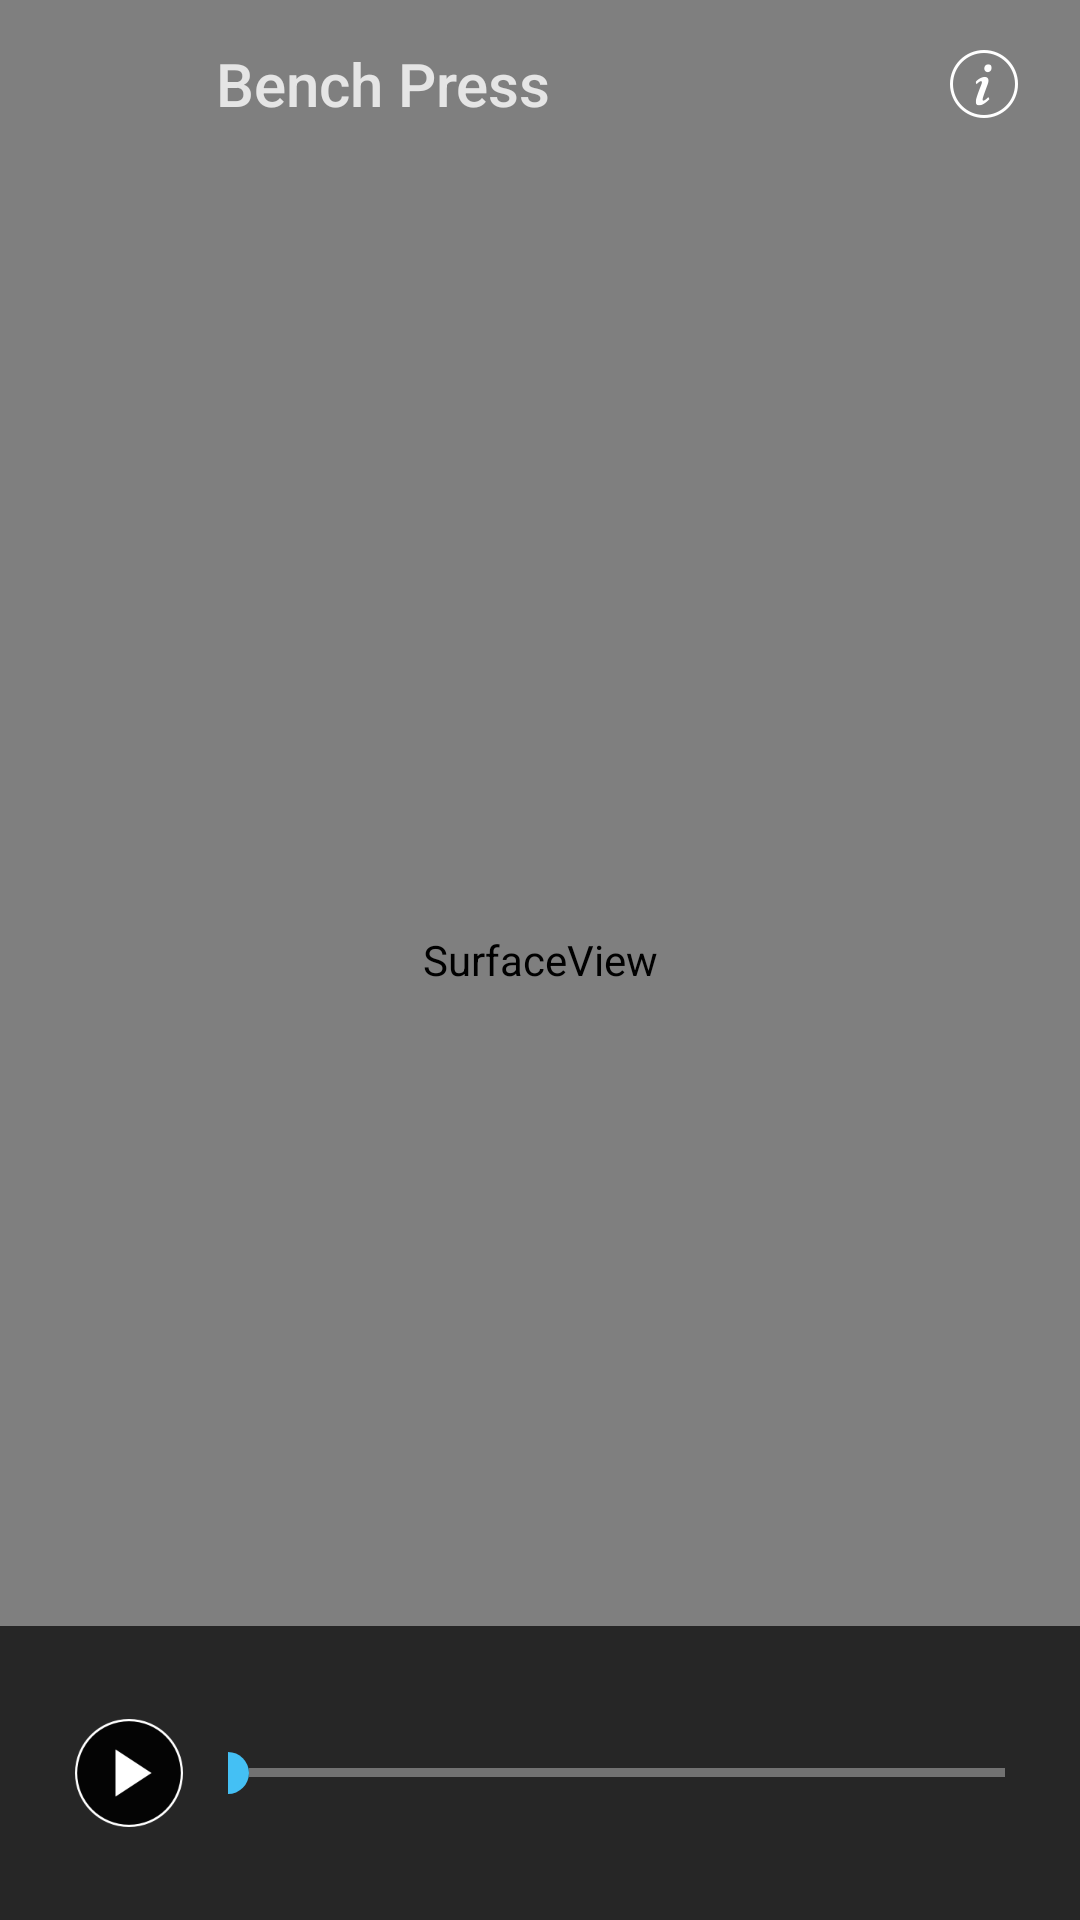

Icons on this 1080 x 1920 Android screen, each with the point to tap as [x,y]:
top info: [984,84]
